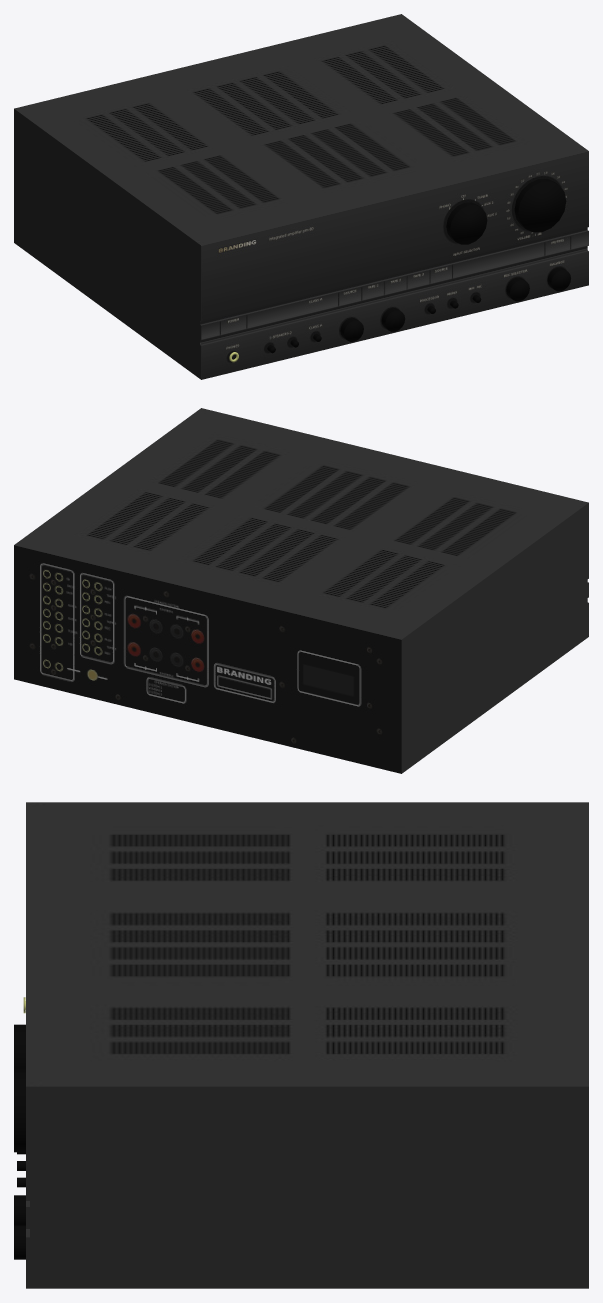
File: stereo_amplifier.obj
3 renders of one model, top to bottom at view 1: azimuth 30°, elevation 25°; view 2: azimuth 150°, elevation 25°; view 3: azimuth 270°, elevation 25°, orthographic. The views are drawn at different scales.
Visible parts, largest first — view 1: Cube, Circle; view 2: Cube; view 3: Cube, Circle.
Boxes of the visible parts, x1,y1,x2,y2 form: Cube: (14,14,588,379); Circle: (267,178,570,353); Cube: (14,408,588,773); Cube: (26,802,588,1288); Circle: (14,1024,25,1259).
Size of the model in its own units: 45.4 by 16.8 by 38.8.
Materials: 4 (1 with a texture image).
